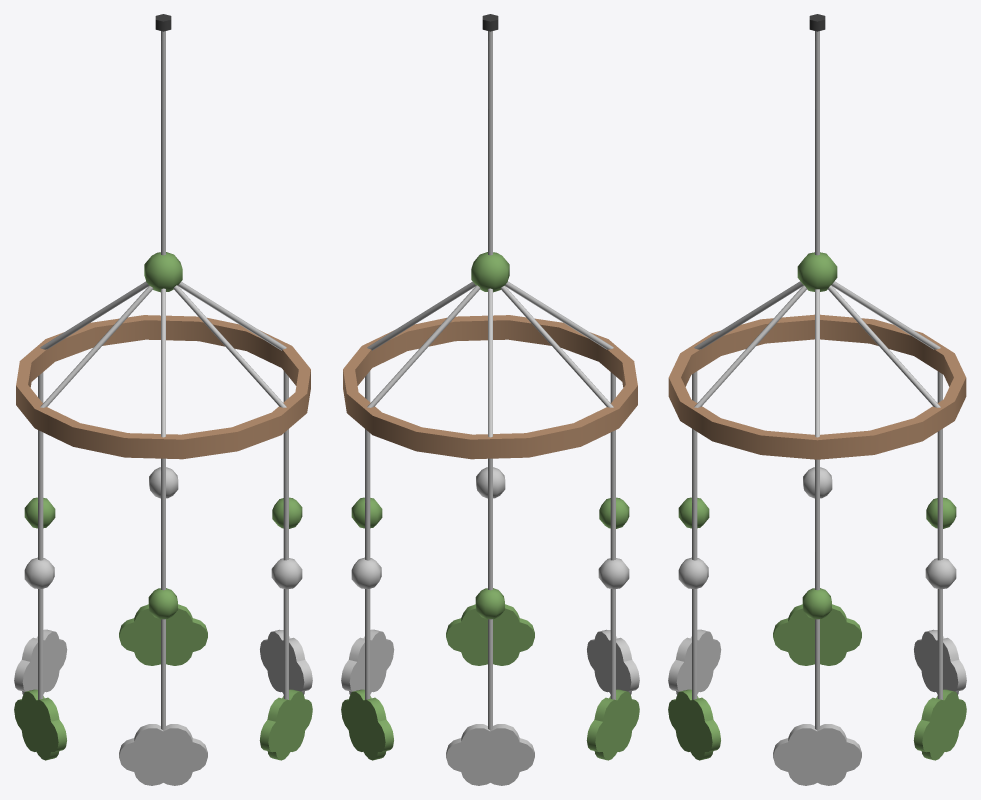
Rendered from BabyMobile_01.fbx.
3 views of the same model, side by side, from view 1: azimuth 30°, elevation 25°; view 2: azimuth 150°, elevation 25°; view 3: azimuth 270°, elevation 25° (orthographic).
Parts seen in each view (by area): view 1: BabyMobile_01; view 2: BabyMobile_01; view 3: BabyMobile_01.
Part boxes in pixels (x1,y1,x2,y2): BabyMobile_01: (14,14,312,785); BabyMobile_01: (341,14,639,785); BabyMobile_01: (668,14,966,785).
Bounding box in the file's own units: 0.2298 × 0.5684 × 0.218.
